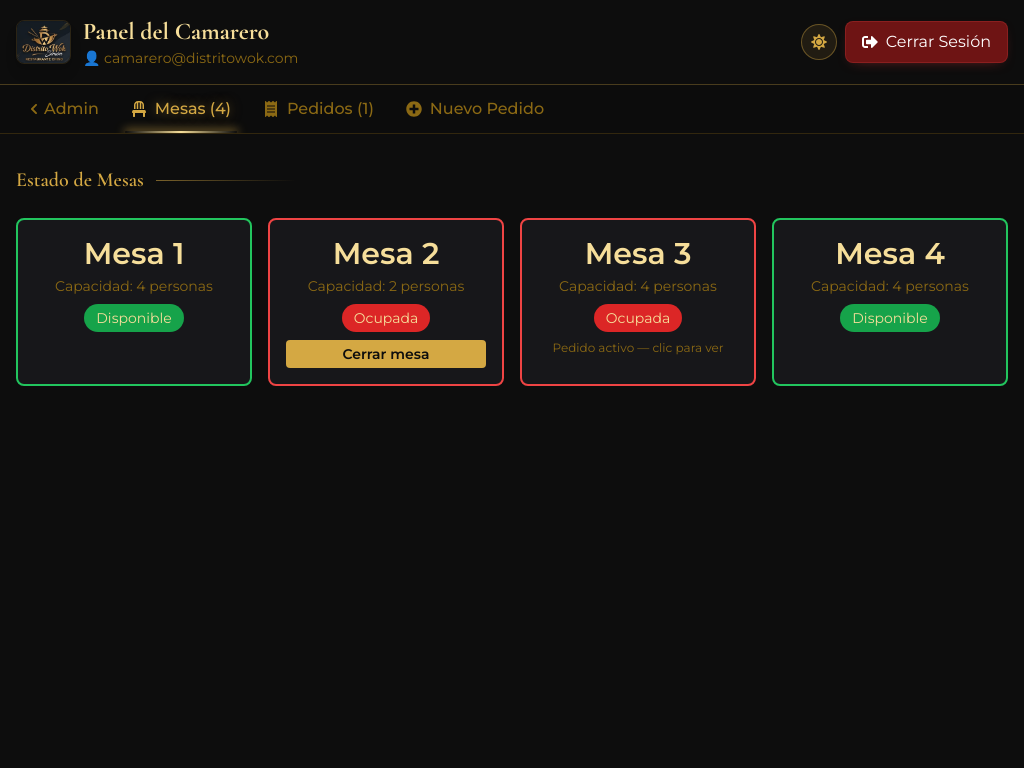
Scenario: muestra acciones de estado en la pestaña Pedidos con permisos
Click the button "Pedidos (1)". click: [318, 109]
box: left=251, top=85, right=386, bottom=133
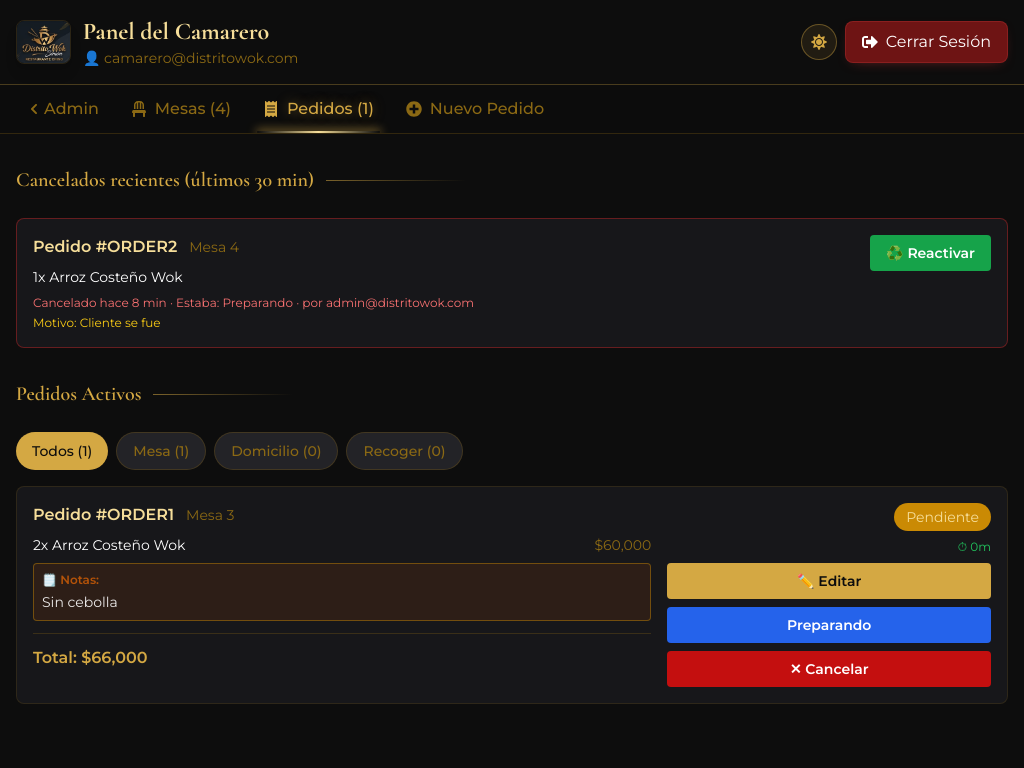
Now the text "1x Arroz Costeño Wok" is shown, box left=33, top=268, right=183, bottom=286
Now the button "Preparando" is shown, box left=667, top=607, right=991, bottom=643
Now the button "✏️ Editar" is shown, box left=667, top=563, right=991, bottom=599
